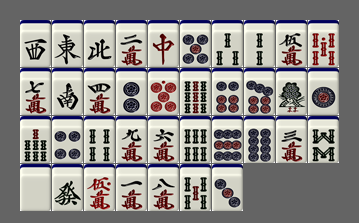0m: (84, 164, 115, 211)
0p: (148, 68, 179, 115)
0s: (308, 20, 339, 67)
1m: (116, 164, 147, 211)
1p: (308, 68, 339, 115)
1s: (276, 68, 307, 115)
1z: (52, 20, 83, 67)
2m: (116, 20, 147, 67)
2p: (116, 68, 147, 115)
2s: (244, 20, 275, 67)
2z: (52, 68, 83, 115)
3m: (276, 116, 307, 163)
3p: (212, 164, 243, 211)
3s: (212, 20, 243, 67)
3z: (20, 20, 51, 67)
4m: (84, 68, 115, 115)
4p: (52, 116, 83, 163)
4s: (84, 116, 115, 163)
4z: (84, 20, 115, 67)
5m: (276, 20, 307, 67)
5p: (180, 20, 211, 67)
5s: (180, 164, 211, 211)
5z: (20, 164, 51, 211)
6m: (148, 116, 179, 163)
6p: (212, 68, 243, 115)
6s: (180, 116, 211, 163)
6z: (52, 164, 83, 211)
7m: (20, 68, 51, 115)
7p: (244, 68, 275, 115)
7s: (20, 116, 51, 163)
7z: (148, 20, 179, 67)
8m: (148, 164, 179, 211)
8p: (244, 116, 275, 163)
8s: (308, 116, 339, 163)
9m: (116, 116, 147, 163)
9p: (212, 116, 243, 163)
9s: (180, 68, 211, 115)
